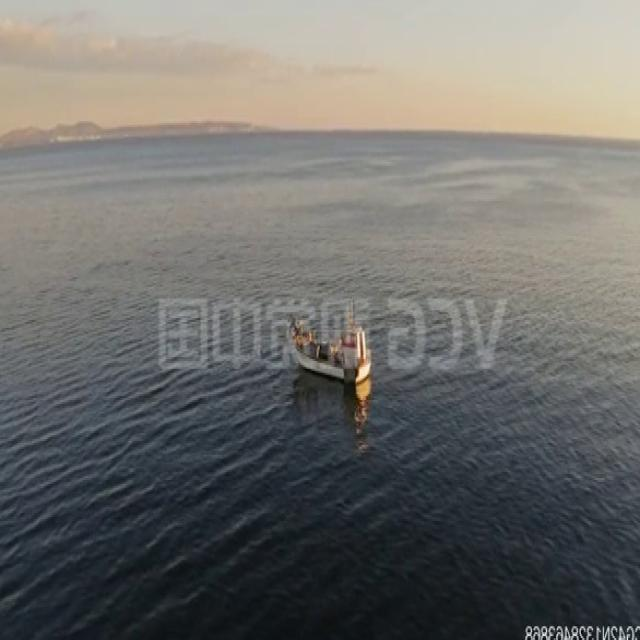houseboat: (288, 299, 378, 377)
